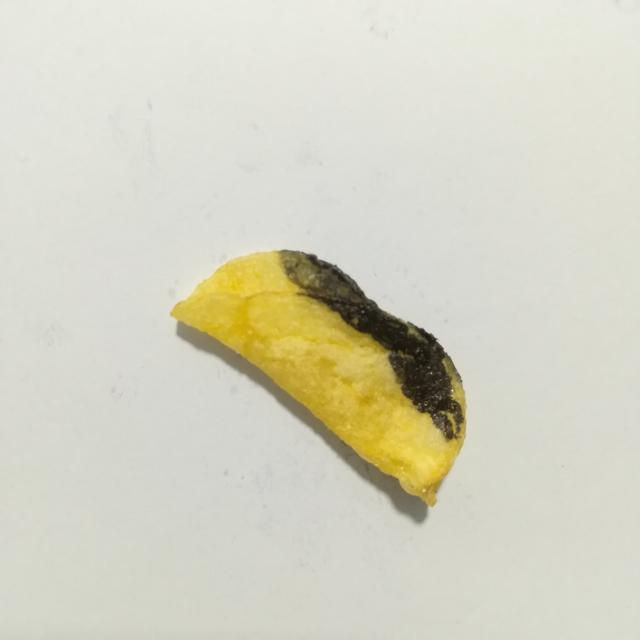chip: (172, 250, 466, 505)
damaged: (279, 250, 464, 440)
